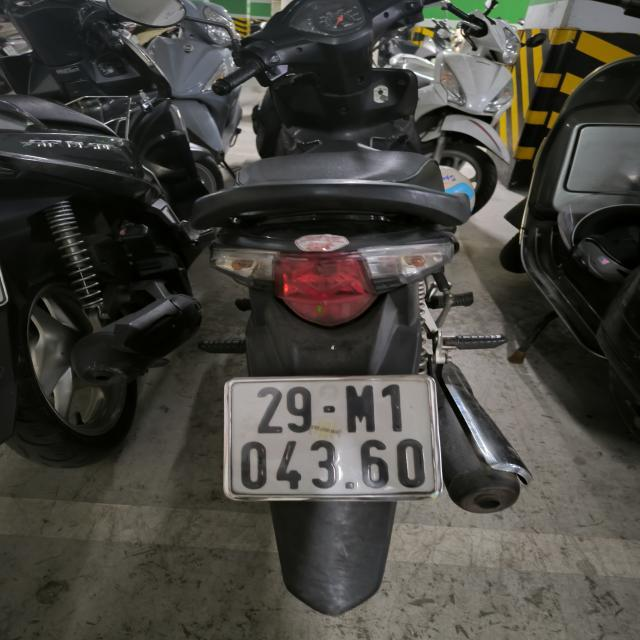license: (221, 373, 442, 502)
